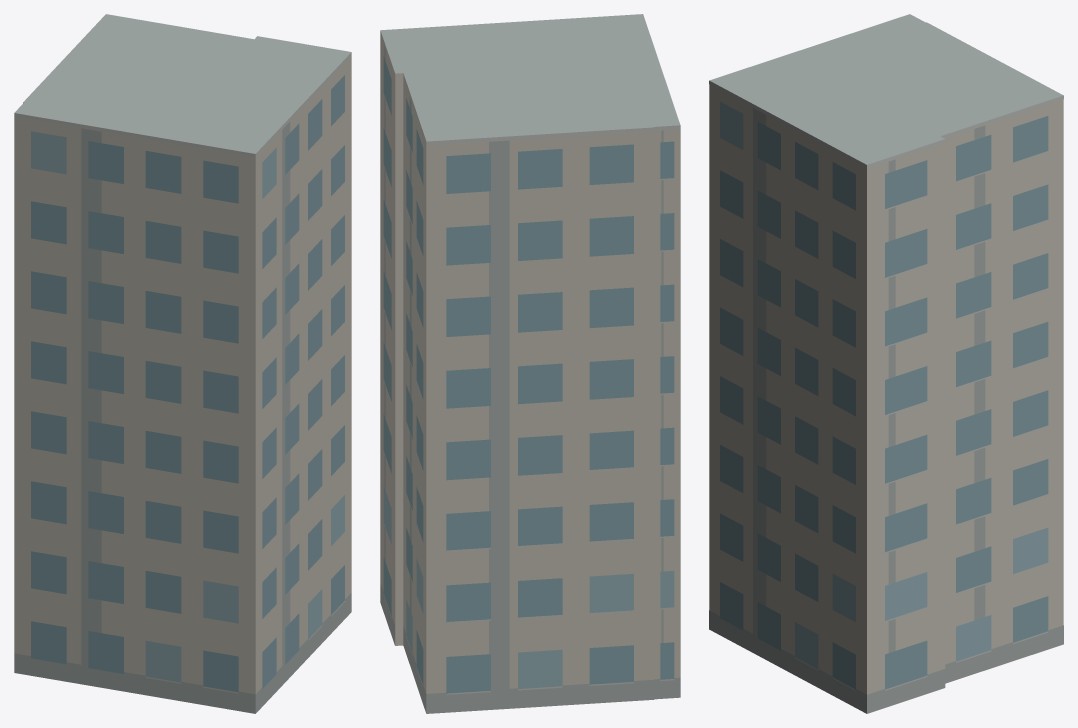
Rendered from survey-upis-32908403.glb.
3 views of the same model, side by side, from view 1: azimuth 30°, elevation 25°; view 2: azimuth 150°, elevation 25°; view 3: azimuth 270°, elevation 25° (orthographic). The views are drawn at different scales.
Visible parts, largest first — view 1: survey-upis-32908403.tmp; view 2: survey-upis-32908403.tmp; view 3: survey-upis-32908403.tmp.
Boxes of the visible parts, bbox=[...] form: survey-upis-32908403.tmp: bbox=[14, 14, 351, 713]; survey-upis-32908403.tmp: bbox=[380, 14, 680, 713]; survey-upis-32908403.tmp: bbox=[709, 14, 1063, 713].
Size of the model in its own units: 20.09 by 34.05 by 19.94.
